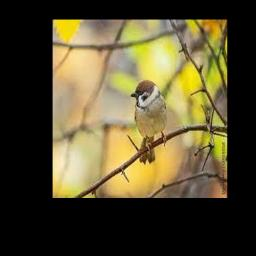Sparrow: (131, 82, 167, 163)
